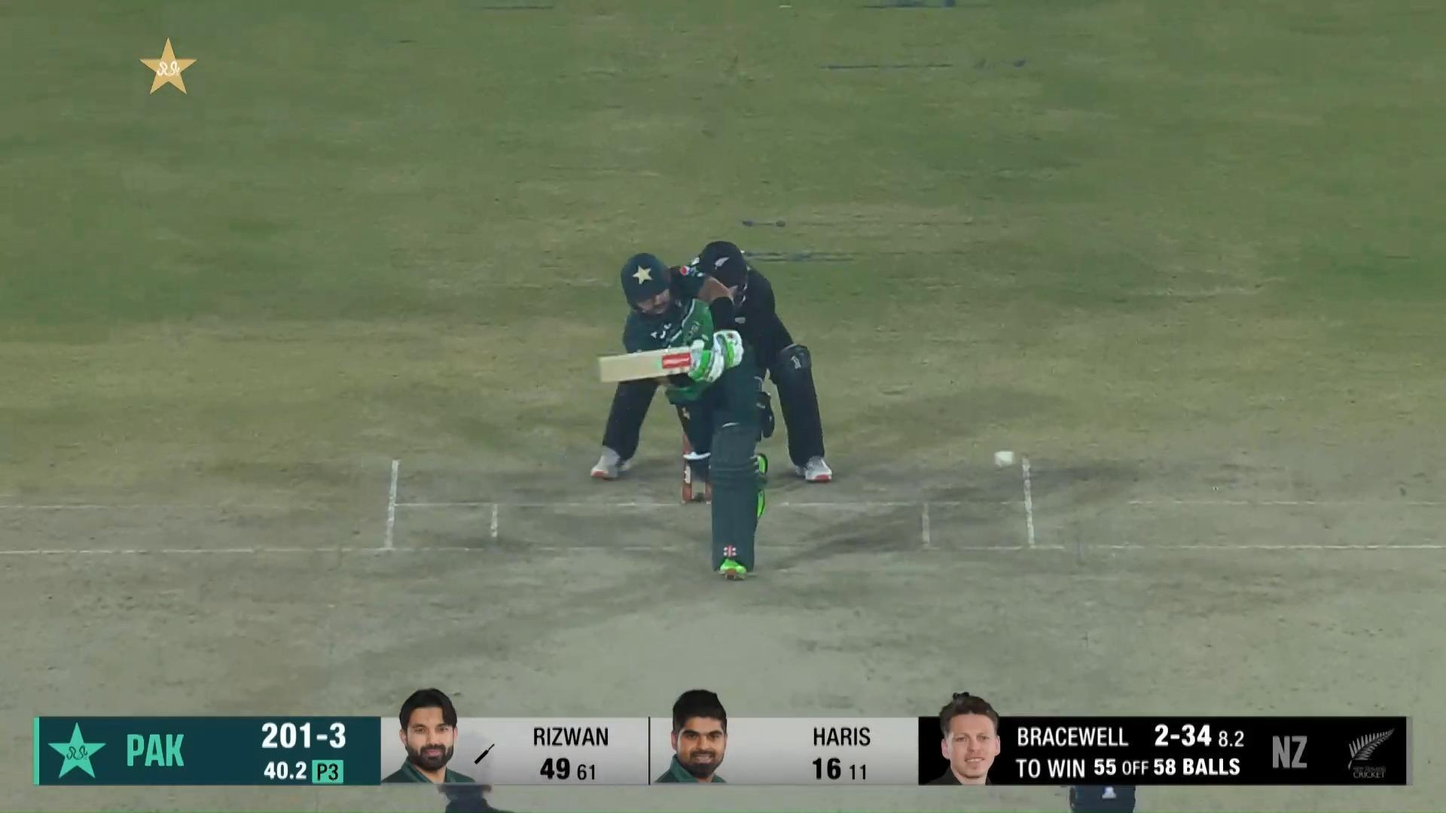BM 1: (597, 251, 758, 580)
BO: (435, 729, 513, 813)
